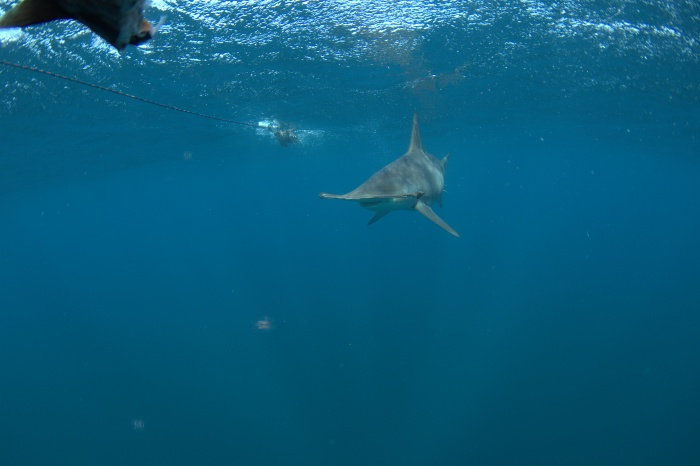Hammer: (288, 105, 500, 250)
